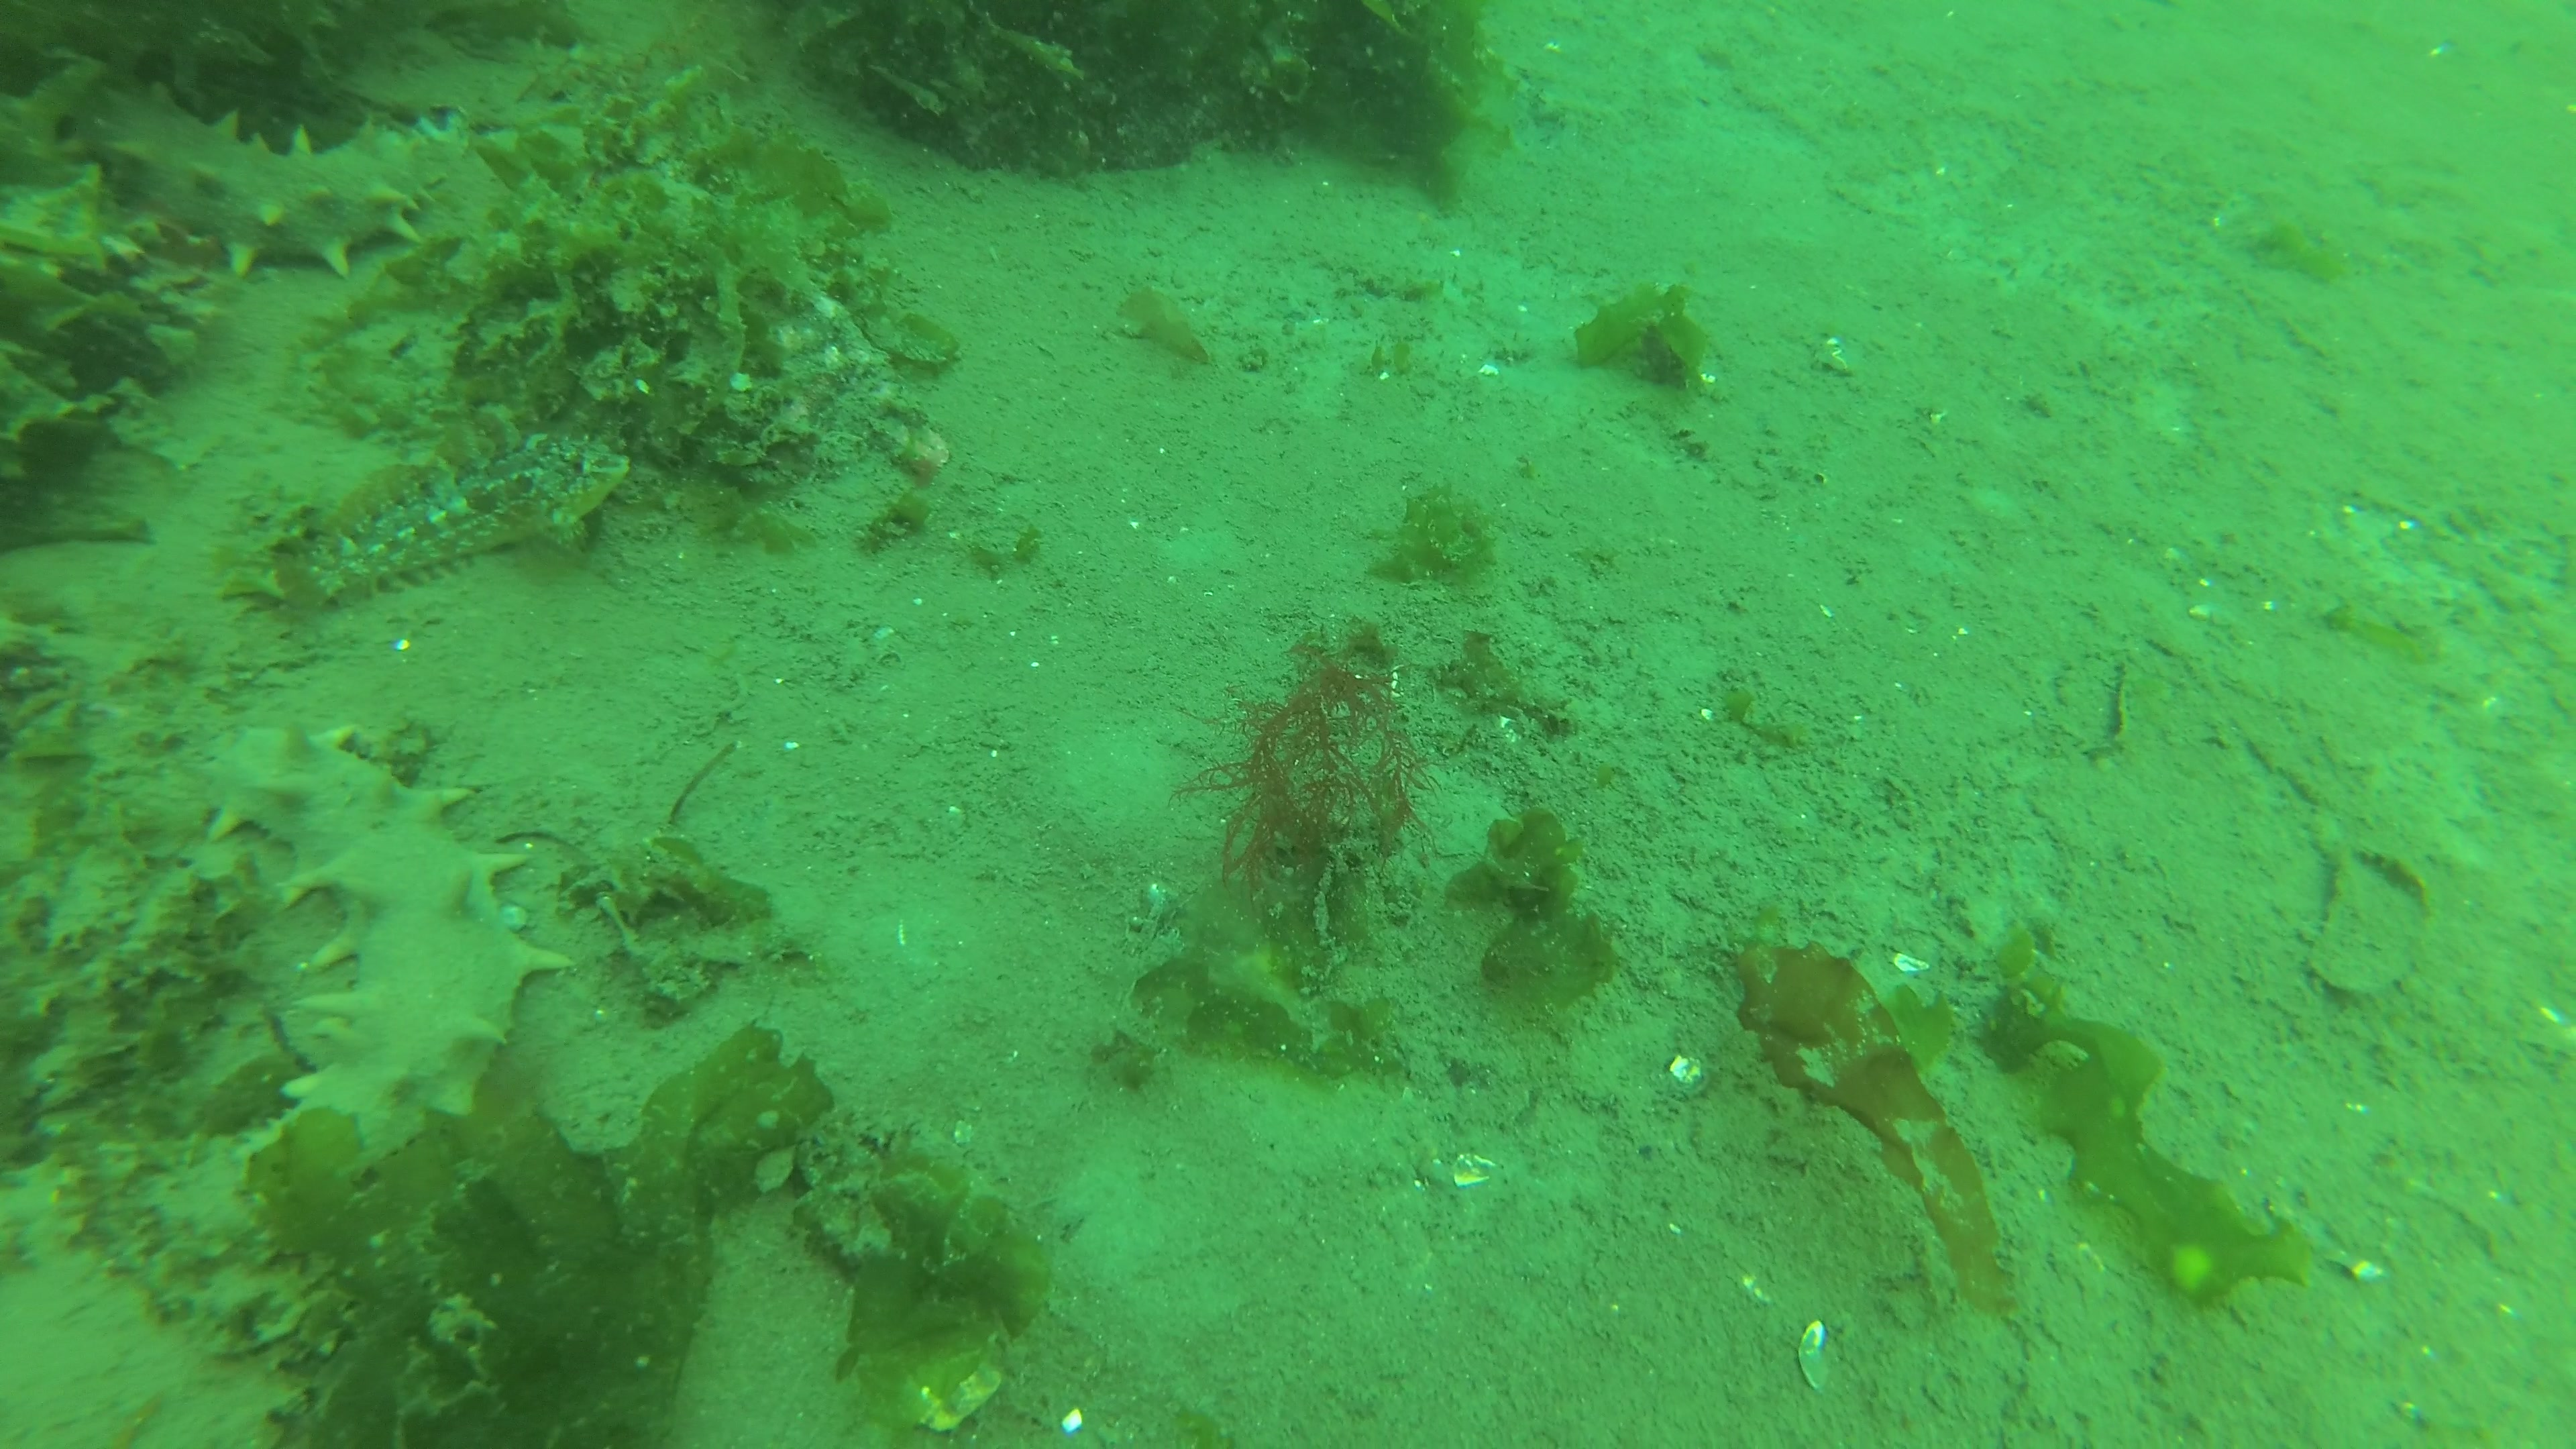holothurian: (166, 718, 577, 1244), (58, 74, 449, 278)
